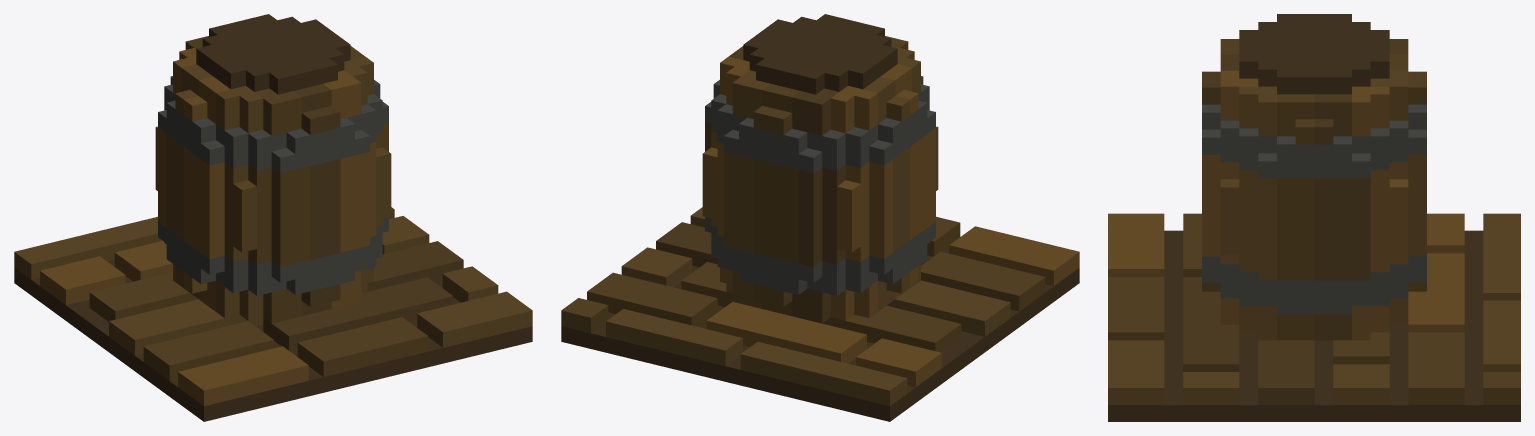
The model's file is tile_sewers_REGION_DECO_ALT.glb.
The picture shows the model from 3 angles, left to right: view 1: azimuth 30°, elevation 25°; view 2: azimuth 150°, elevation 25°; view 3: azimuth 270°, elevation 25°; orthographic projection. The views are drawn at different scales.
Parts seen in each view (by area): view 1: tile_sewers_REGION_DECO_ALT_v3; view 2: tile_sewers_REGION_DECO_ALT_v3; view 3: tile_sewers_REGION_DECO_ALT_v3.
Boxes of the visible parts, x1,y1,x2,y2 form: tile_sewers_REGION_DECO_ALT_v3: (14, 14, 532, 421); tile_sewers_REGION_DECO_ALT_v3: (561, 14, 1079, 421); tile_sewers_REGION_DECO_ALT_v3: (1108, 14, 1520, 421).
Bounding box in the file's own units: 1 × 0.7727 × 1.
Materials: 1 (1 with a texture image).
